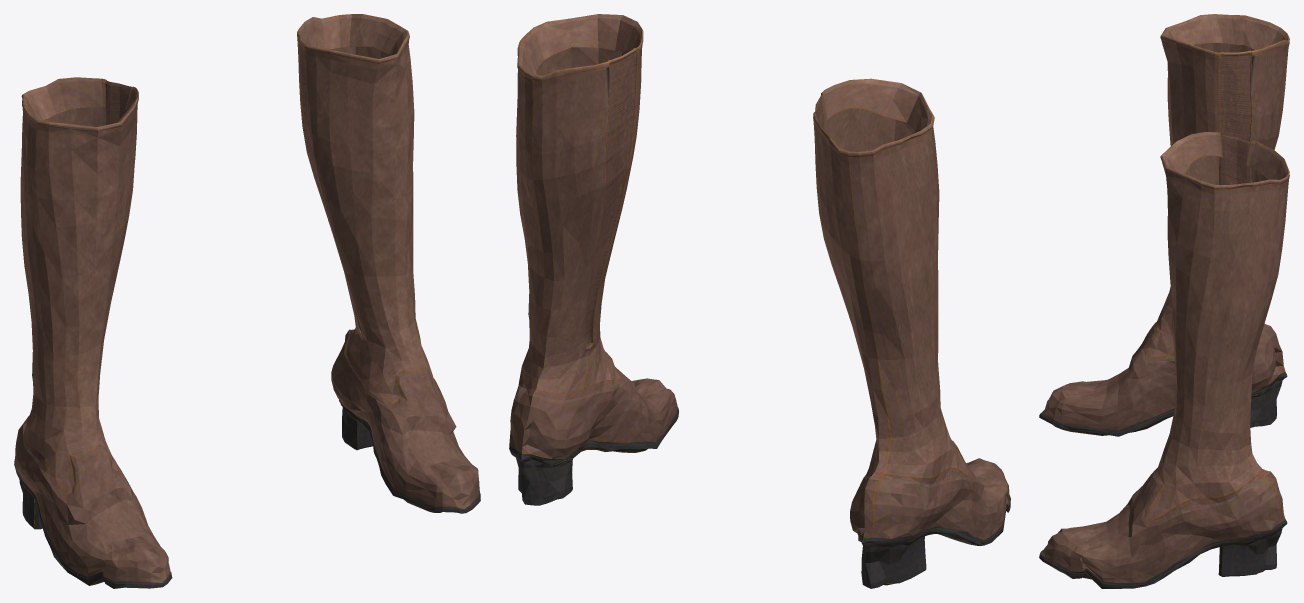
The model's file is mhw_scailman_low-heeled_boots.glb.
The picture shows the model from 3 angles, left to right: view 1: azimuth 30°, elevation 25°; view 2: azimuth 150°, elevation 25°; view 3: azimuth 270°, elevation 25°; orthographic projection. The views are drawn at different scales.
Visible parts, largest first — view 1: mhw_scailman_low-heeled_boots; view 2: mhw_scailman_low-heeled_boots; view 3: mhw_scailman_low-heeled_boots.
Boxes of the visible parts, x1=… form: mhw_scailman_low-heeled_boots: x1=14, y1=14, x2=480, y2=588; mhw_scailman_low-heeled_boots: x1=509, y1=14, x2=1010, y2=588; mhw_scailman_low-heeled_boots: x1=1039, y1=14, x2=1289, y2=588.
Bounding box in the file's own units: 0.5237 × 0.5422 × 0.3.
Materials: 1 (1 with a texture image).
